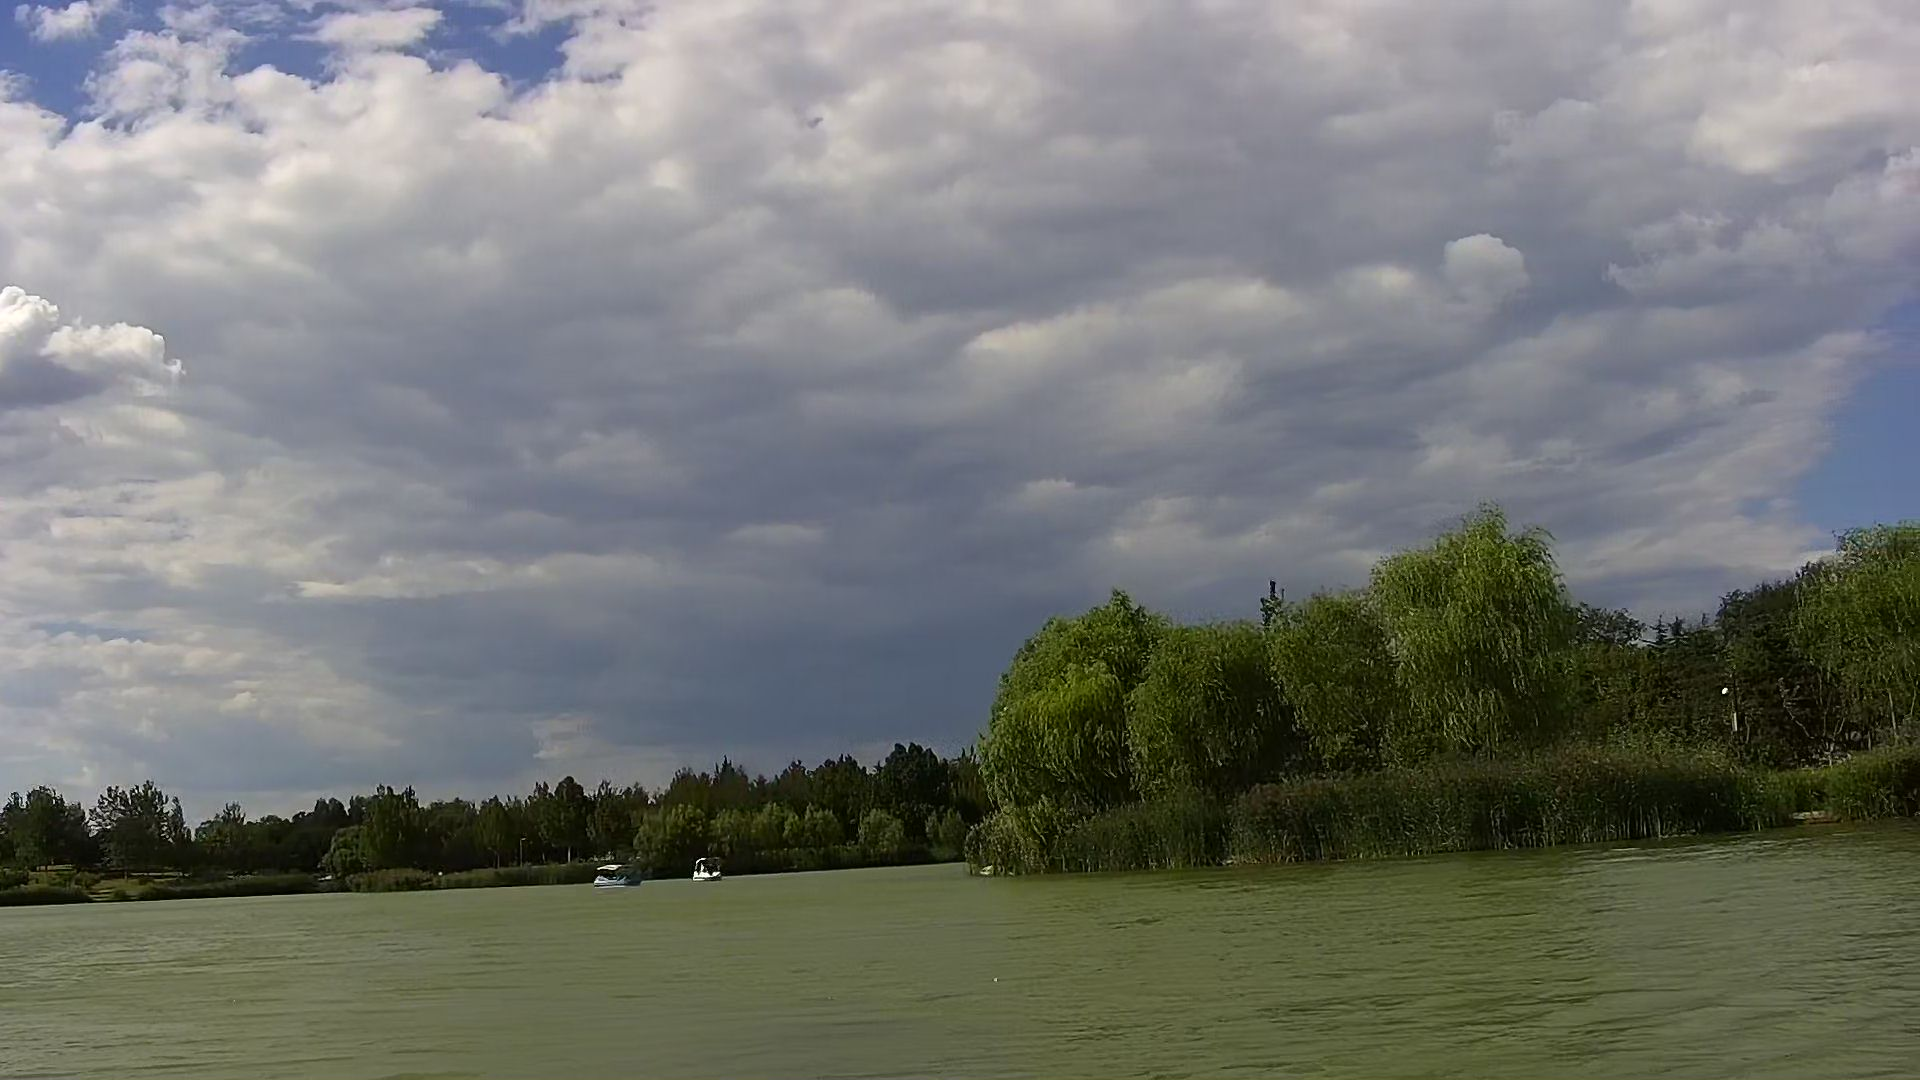boat: (589, 860, 645, 891), (691, 855, 725, 882)
